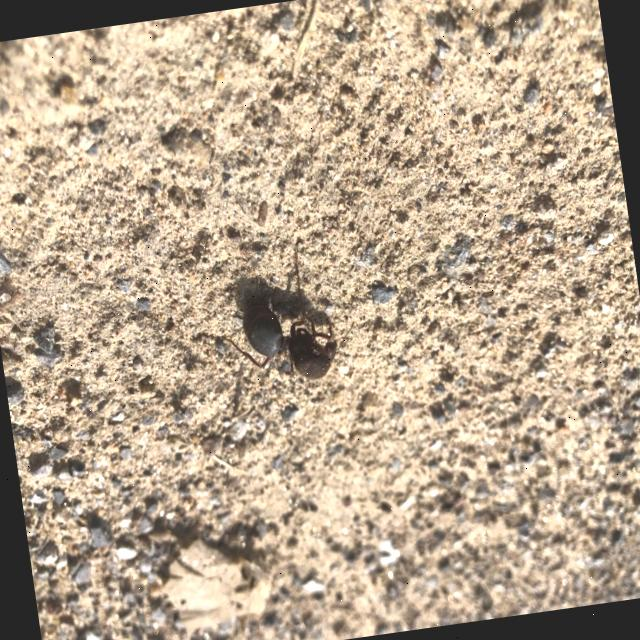Alive-Female-Dealate: (216, 245, 361, 391)
